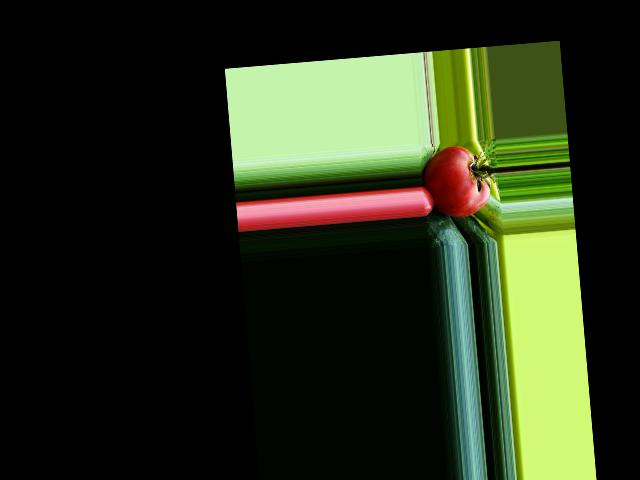tomato: (420, 143, 492, 220)
